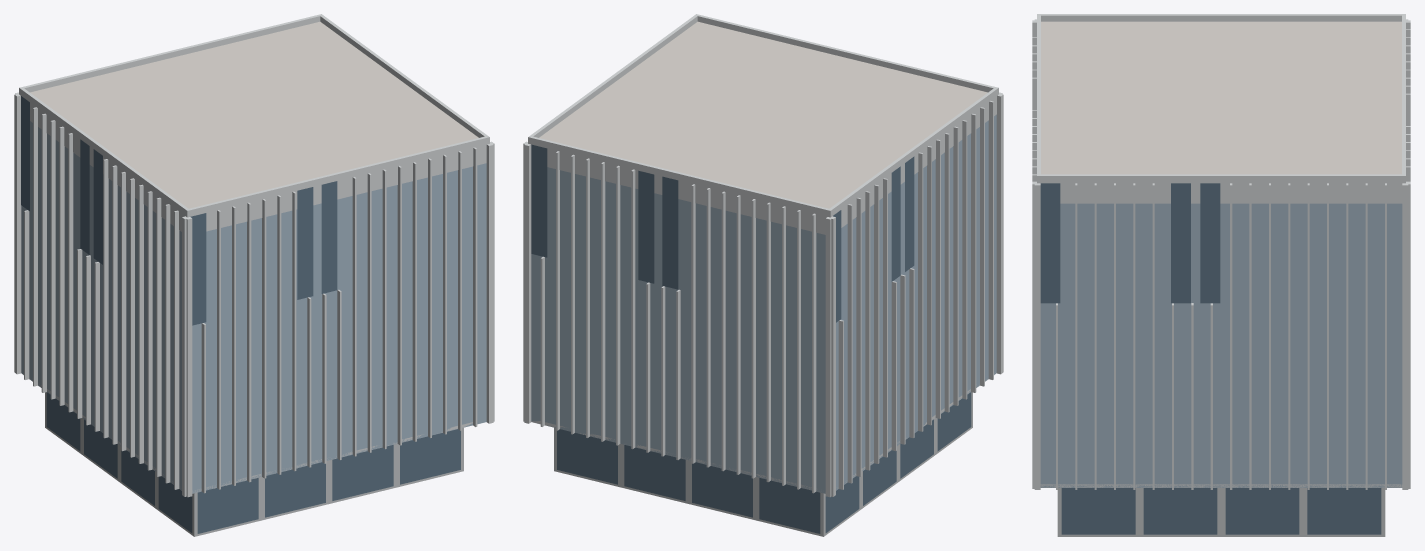
The model's file is slc-orrin-g-hatch-courthouse.glb.
The picture shows the model from 3 angles, left to right: view 1: azimuth 30°, elevation 25°; view 2: azimuth 150°, elevation 25°; view 3: azimuth 270°, elevation 25°; orthographic projection. The views are drawn at different scales.
Visible parts, largest first — view 1: Orrin G. Hatch United States Courthouse; view 2: Orrin G. Hatch United States Courthouse; view 3: Orrin G. Hatch United States Courthouse.
Part boxes in pixels (bbox=[...]): Orrin G. Hatch United States Courthouse: bbox=[14, 14, 494, 536]; Orrin G. Hatch United States Courthouse: bbox=[523, 14, 1003, 536]; Orrin G. Hatch United States Courthouse: bbox=[1032, 14, 1410, 536].
Size of the model in its own units: 58.7 by 61 by 56.6.
